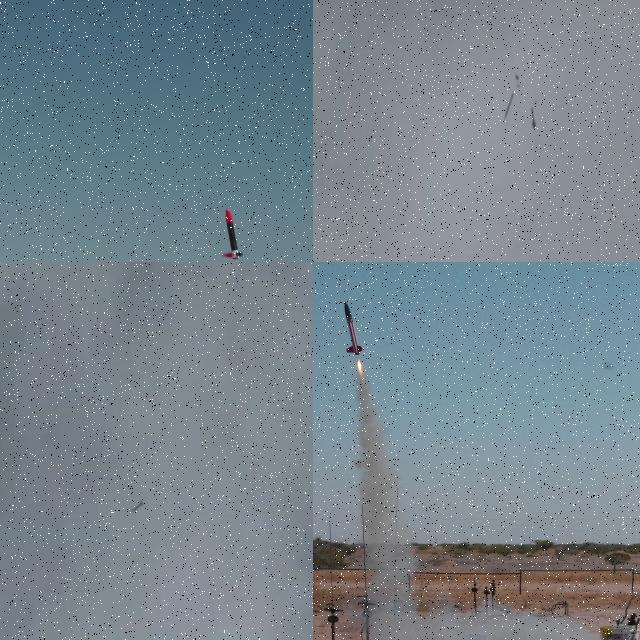Rocket: (222, 207, 246, 261), (344, 302, 363, 356), (130, 499, 144, 514), (531, 108, 536, 128)
